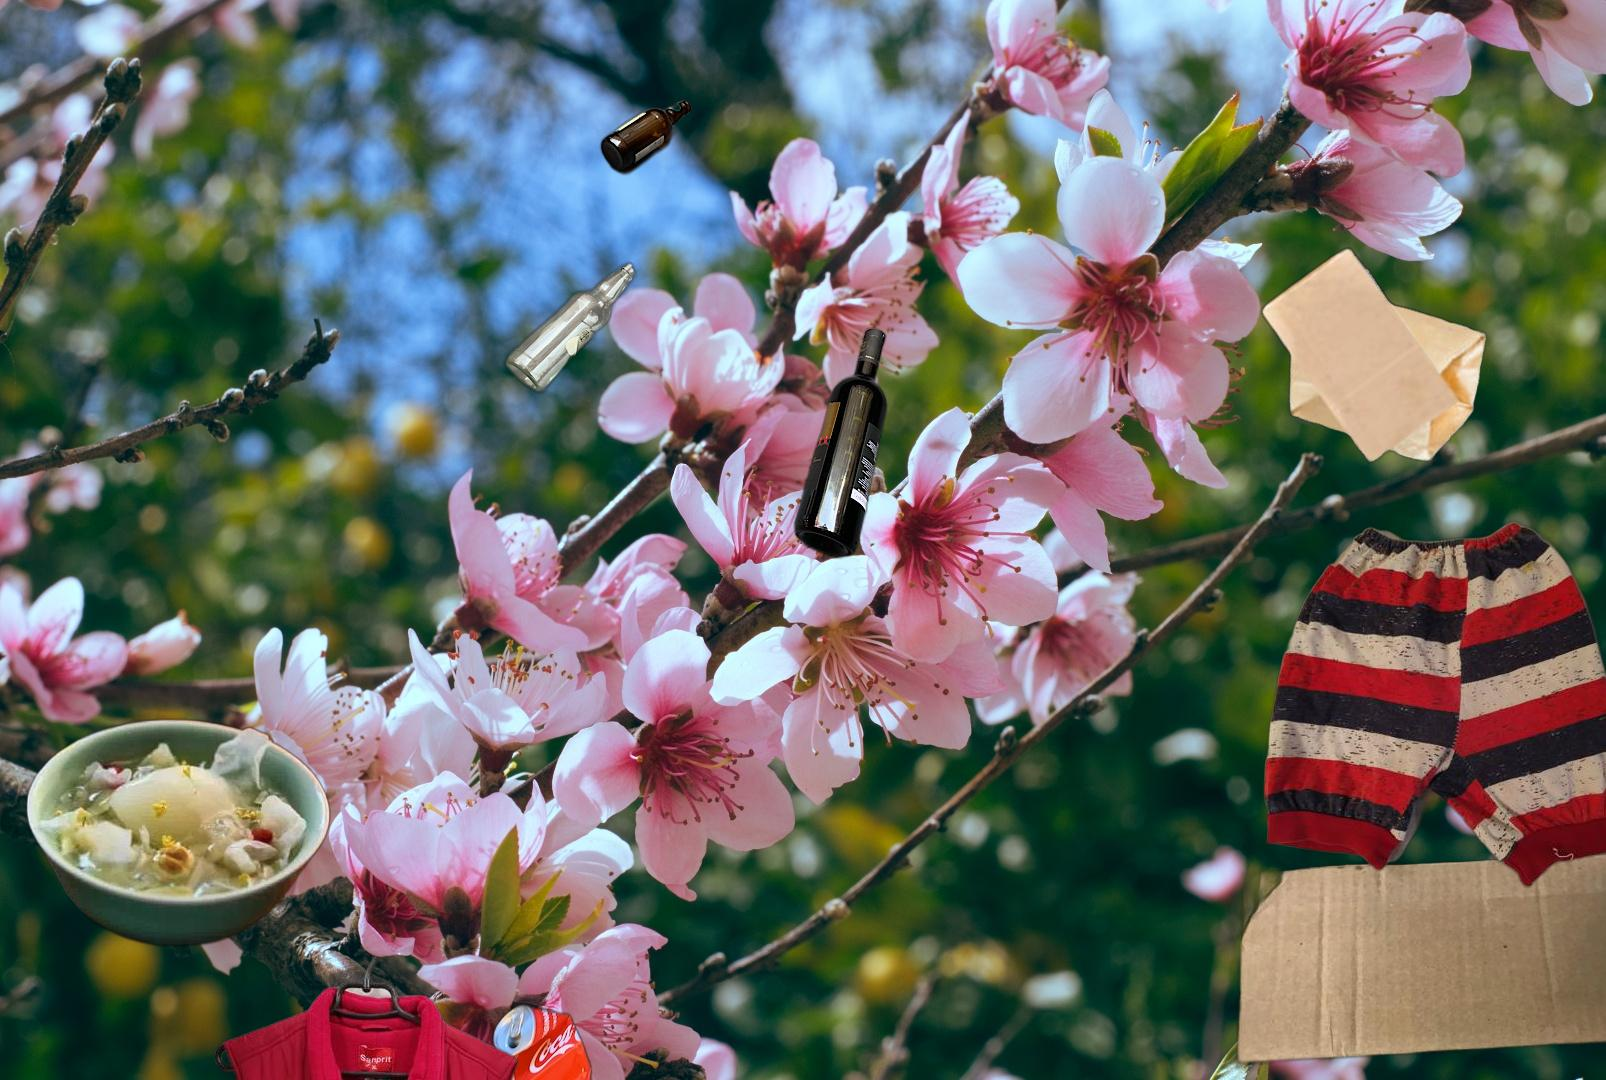biological: (23, 716, 334, 950)
clothes: (1260, 517, 1606, 892), (202, 957, 534, 1080)
glass: (501, 95, 892, 659)
metal-cans: (489, 998, 595, 1080)
paper-bag: (1259, 245, 1489, 465)
trashbox-cardboard: (1233, 850, 1606, 1080)
